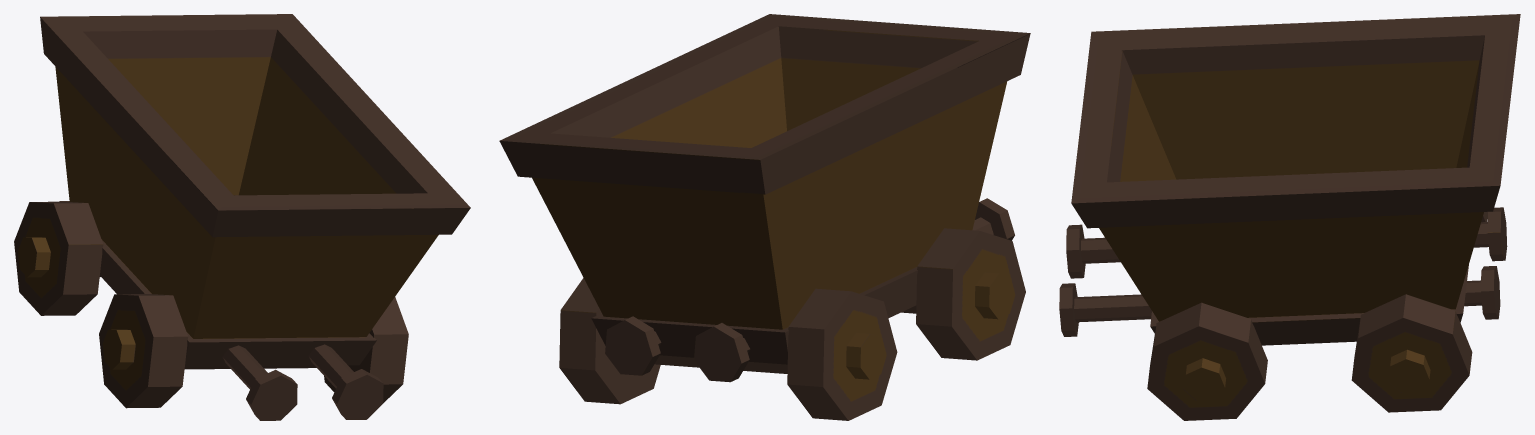
Rendered from cart.obj.
The picture shows the model from 3 angles, left to right: view 1: azimuth 30°, elevation 25°; view 2: azimuth 150°, elevation 25°; view 3: azimuth 270°, elevation 25°; orthographic projection. The views are drawn at different scales.
Parts seen in each view (by area): view 1: cart.001; view 2: cart.001; view 3: cart.001.
Part boxes in pixels (x1,y1,x2,y2): cart.001: (14,14,470,420); cart.001: (499,14,1030,420); cart.001: (1059,14,1520,420).
Bounding box in the file's own units: 0.453 × 0.4239 × 0.556.
Materials: 1 (1 with a texture image).
